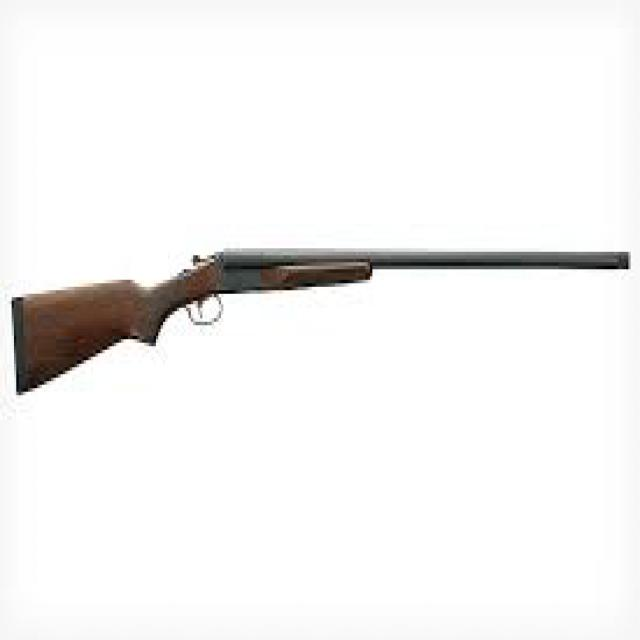long weapon: (7, 232, 634, 401)
